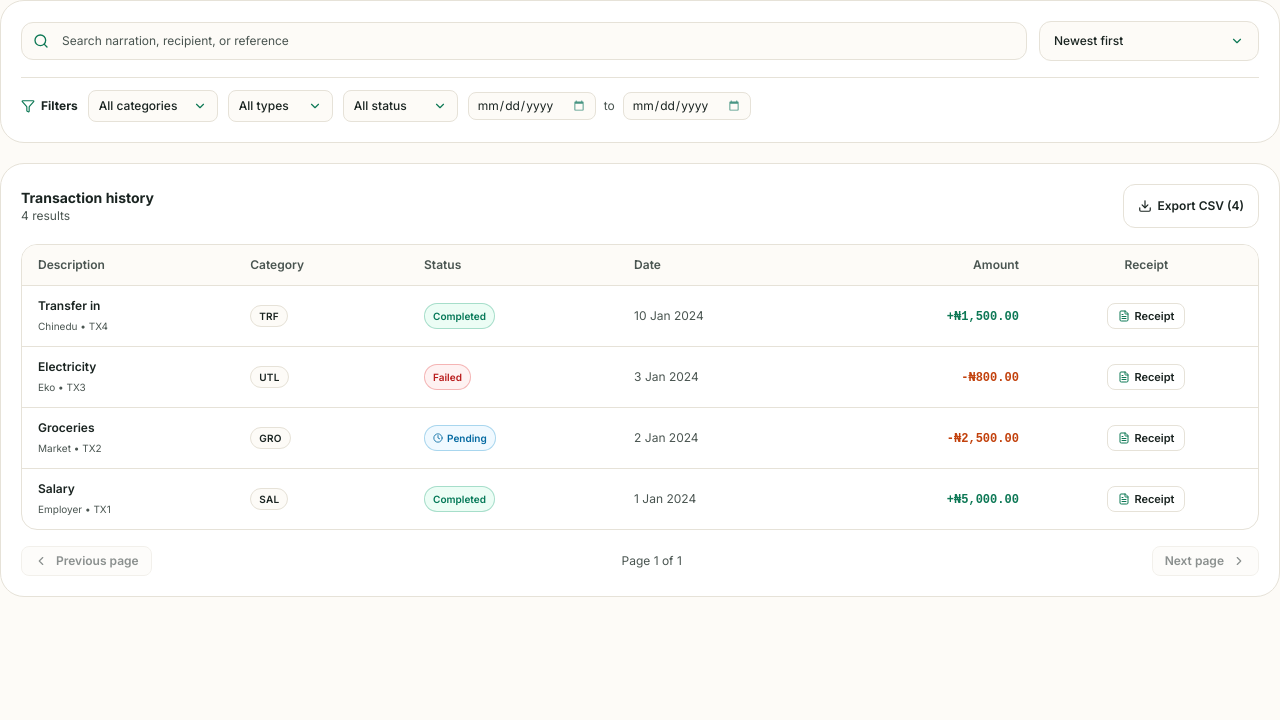
Test: transaction browser UI and edge cases › renders empty state when no transactions match active search or filters
The width and height of the screenshot is (1280, 720).
Type "nonexistent_search_query_xyz" into the search field named "search transactions" at (524, 41), box [21,22,1027,60]
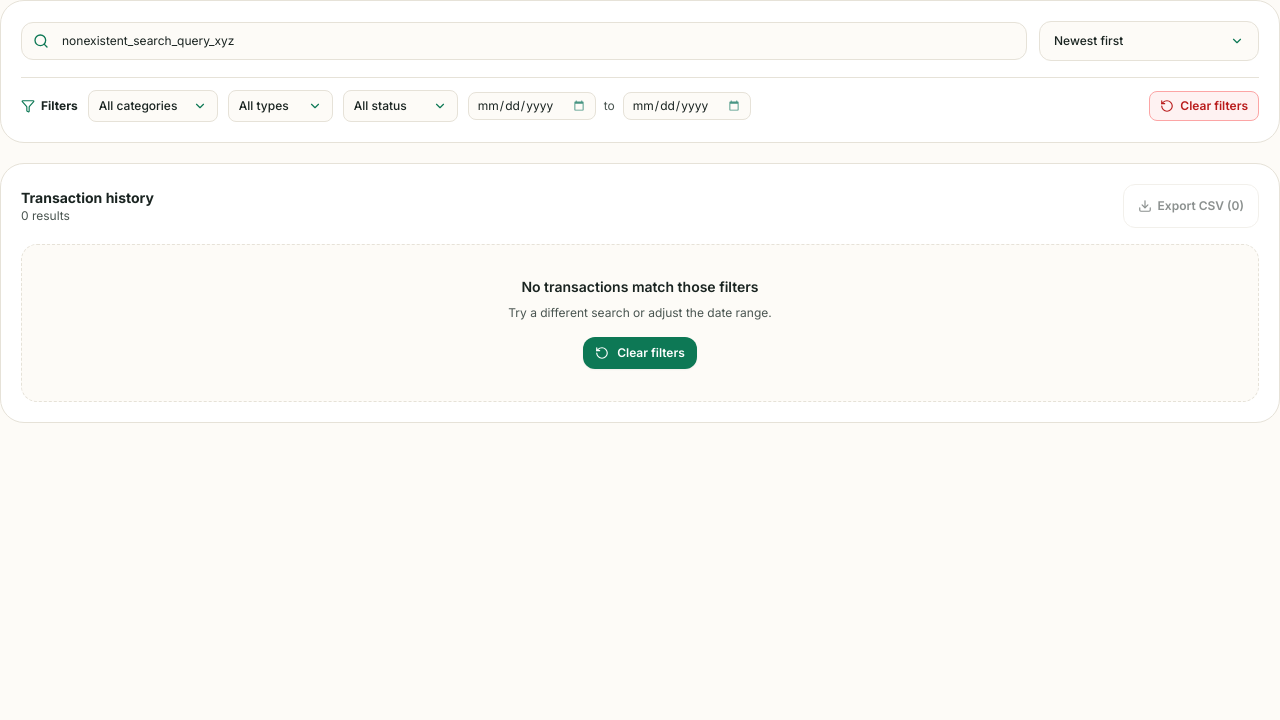
Now the text "No transactions match those filters" is shown, box [521,278,758,295]
Now the text "Try a different search or adjust the date range." is shown, box [508,305,772,320]
Now the text "0 results" is shown, box [21,208,70,223]
